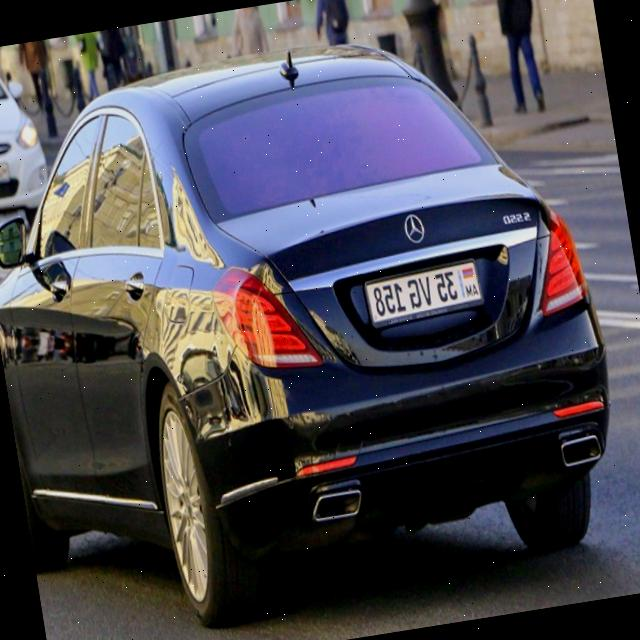number-plates: (362, 252, 488, 332)
